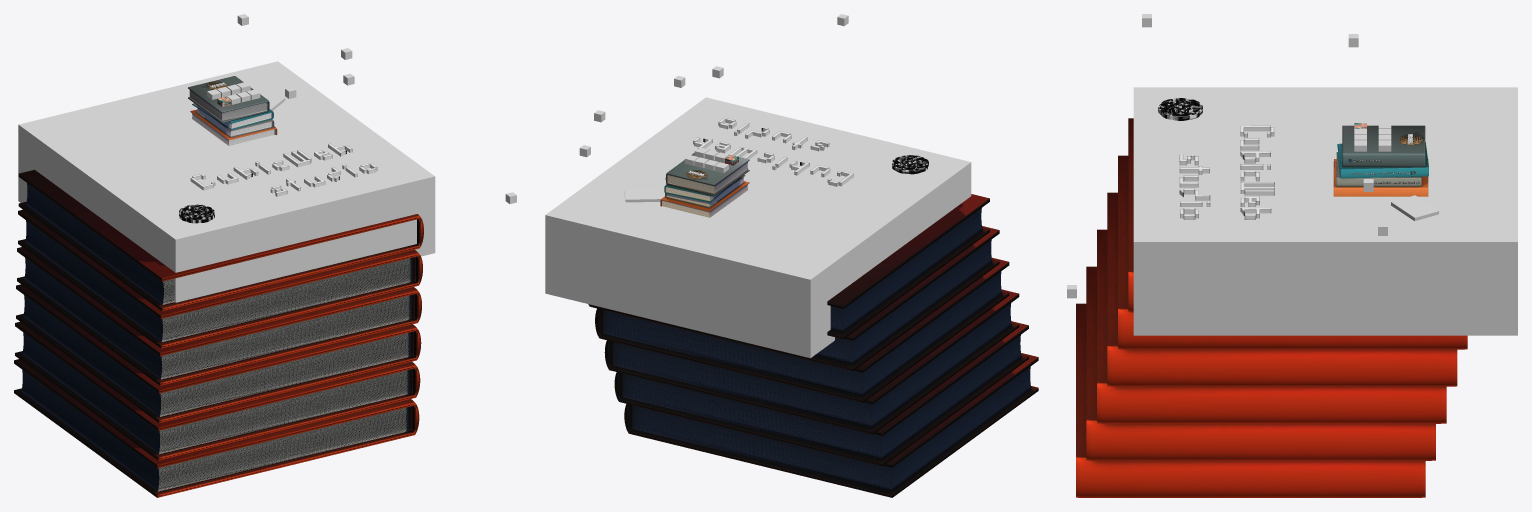
3 views of the same model, side by side, from view 1: azimuth 30°, elevation 25°; view 2: azimuth 150°, elevation 25°; view 3: azimuth 270°, elevation 25° (orthographic). The views are drawn at different scales.
Parts seen in each view (by area): view 1: book.005, homepage_raycast, book.002, book work 1, book work 1.002, book work 1.001; view 2: book.005, homepage_raycast, book.002, book work 1, book work 1.002; view 3: homepage_raycast, book.005, book.002, book work 1, book work 1.002, book work 1.004, book work 1.001, mail_raycast.
Boxes of the visible parts, bbox=[...] form: book.005: bbox=[14, 169, 423, 497]; homepage_raycast: bbox=[18, 61, 435, 302]; book.002: bbox=[179, 143, 377, 223]; book work 1: bbox=[188, 76, 269, 123]; book work 1.002: bbox=[190, 109, 277, 145]; book work 1.001: bbox=[196, 108, 274, 137]; book.005: bbox=[588, 194, 1038, 497]; homepage_raycast: bbox=[545, 97, 971, 358]; book.002: bbox=[693, 118, 928, 186]; book work 1: bbox=[665, 149, 749, 196]; book work 1.002: bbox=[660, 181, 749, 217]; homepage_raycast: bbox=[1133, 87, 1517, 335]; book.005: bbox=[1076, 118, 1467, 497]; book.002: bbox=[1158, 98, 1274, 219]; book work 1: bbox=[1342, 125, 1425, 167]; book work 1.002: bbox=[1333, 159, 1428, 196]; book work 1.004: bbox=[1337, 142, 1428, 178]; book work 1.001: bbox=[1336, 152, 1421, 186]; mail_raycast: bbox=[1391, 195, 1439, 221].
Bounding box in the file's own units: 101 × 94.68 × 90.57.
18 materials, 18 textured.
